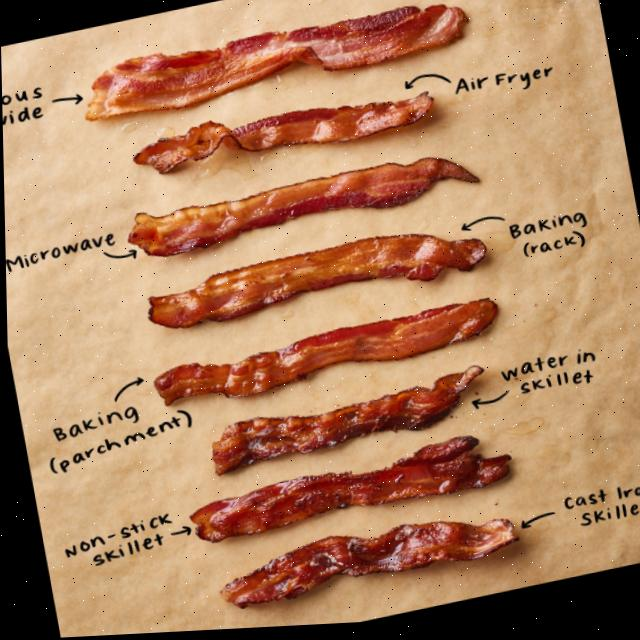Bacon: (86, 9, 467, 121), (152, 304, 497, 407), (127, 162, 478, 258), (188, 441, 508, 544), (147, 238, 485, 330), (210, 370, 482, 477), (217, 524, 516, 611), (133, 98, 432, 175)
